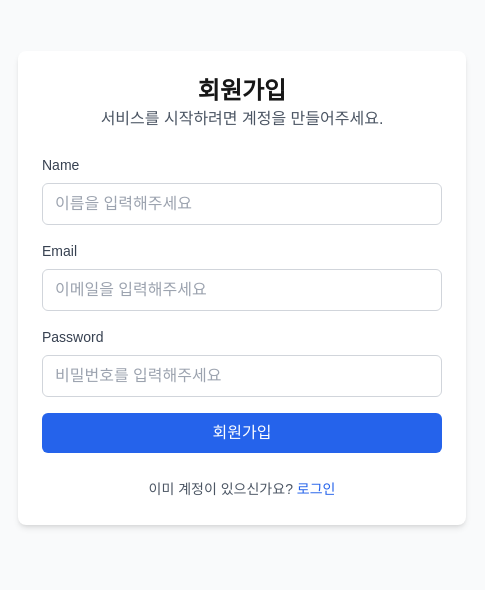
회원 가입 › 빈 필드가 있을 경우 오류 표시
Click the button with test id "submit" at coordinates (242, 433), box left=42, top=413, right=442, bottom=453
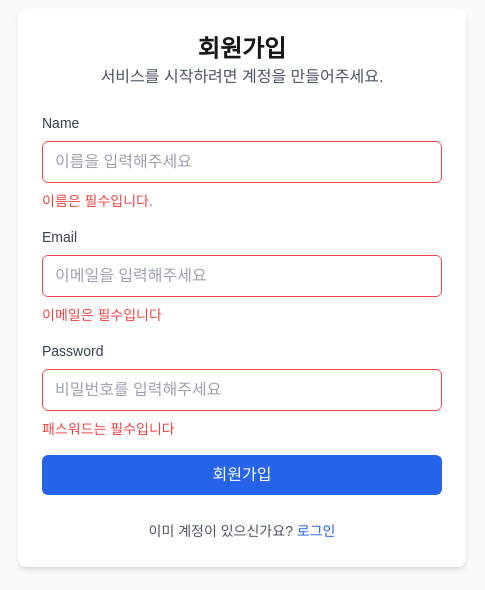
expect the text "이름은 필수입니다." is shown: met, box left=42, top=193, right=153, bottom=209
expect the text "이메일은 필수입니다" is shown: met, box left=42, top=307, right=162, bottom=323
expect the text "패스워드는 필수입니다" is shown: met, box left=42, top=421, right=175, bottom=437
